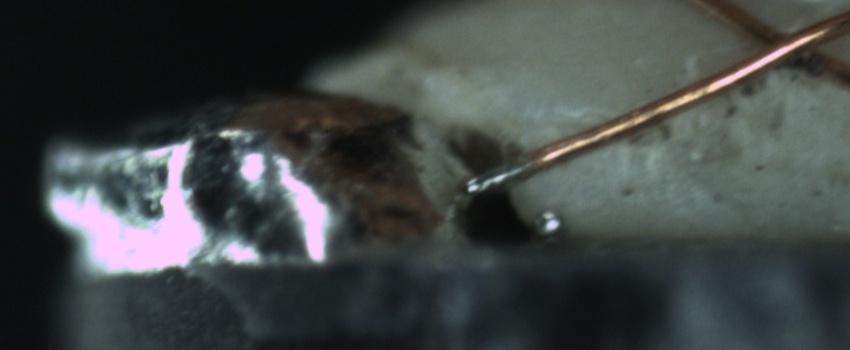CL: (736, 9, 841, 80)
DL: (514, 98, 639, 150)
TS: (459, 153, 539, 201)
